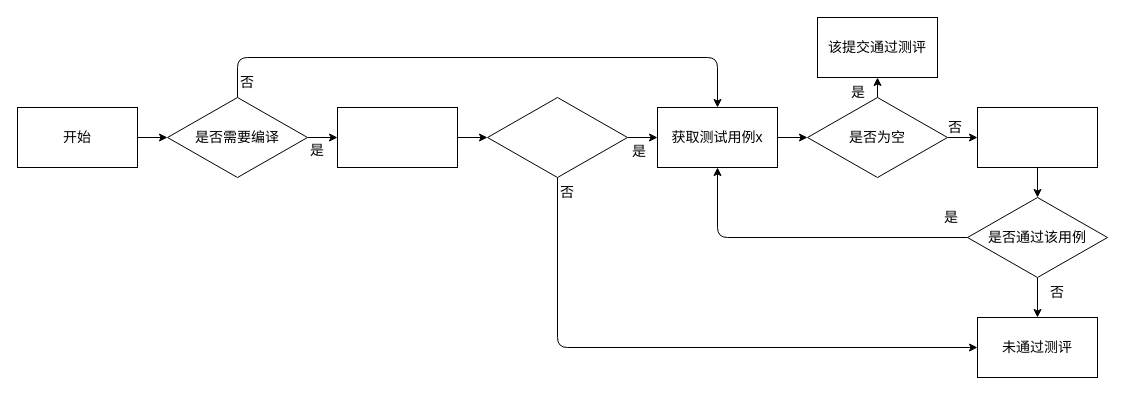
Image size: 1125x395. Some labels were removed from this diagram. Here are the shapes that lost their labels. From the top down, the box of each, then its label:
(336, 106, 458, 168): 开始编译
(486, 96, 628, 178): 是否编译通过
(976, 106, 1098, 168): 开始运行
